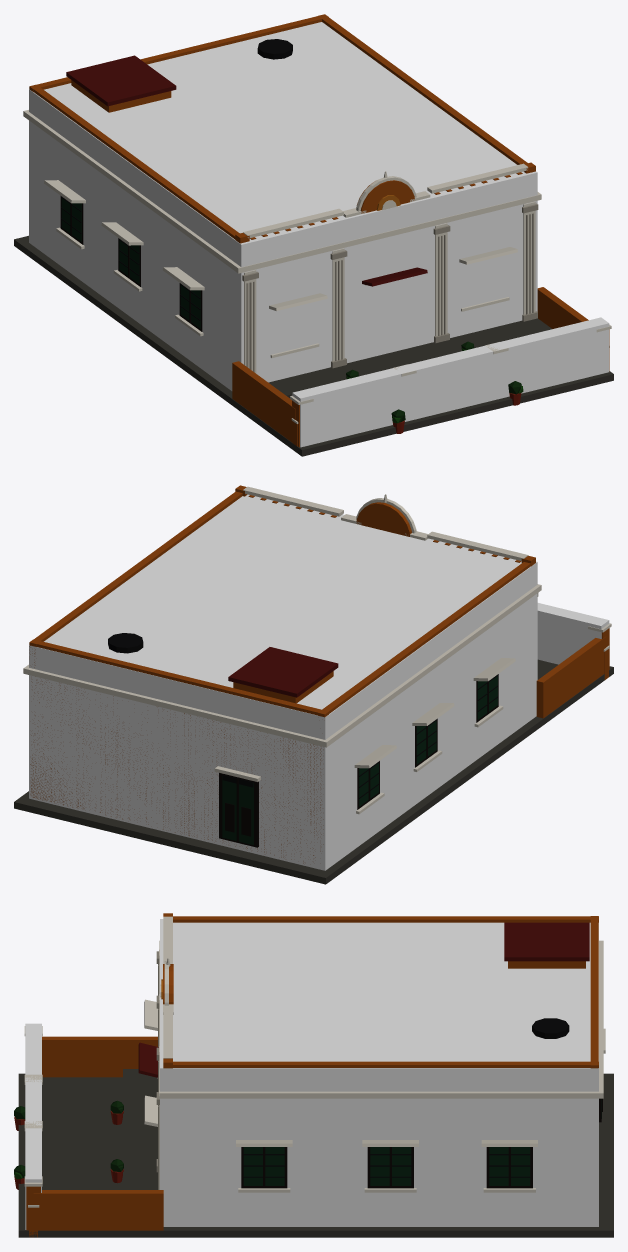
Rendered from CHN_002_mylapore_trad.glb.
3 renders of one model, top to bottom at view 1: azimuth 30°, elevation 25°; view 2: azimuth 150°, elevation 25°; view 3: azimuth 270°, elevation 25°, orthographic. The views are drawn at different scales.
Visible parts, largest first — view 1: COL_Main, LOD0, COL_Compound; view 2: COL_Main, LOD0, COL_Compound; view 3: COL_Main, LOD0, COL_Compound.
Boxes of the visible parts, <box> form: COL_Main: <box>29,22,537,390</box>; LOD0: <box>14,14,613,456</box>; COL_Compound: <box>292,317,609,447</box>; COL_Main: <box>29,494,537,870</box>; LOD0: <box>14,485,613,884</box>; COL_Compound: <box>537,603,609,664</box>; COL_Main: <box>160,919,598,1226</box>; LOD0: <box>14,913,613,1237</box>; COL_Compound: <box>25,1023,41,1229</box>.
Size of what is drawn, in the model's own units: 10.45 by 5.95 by 16.13.
